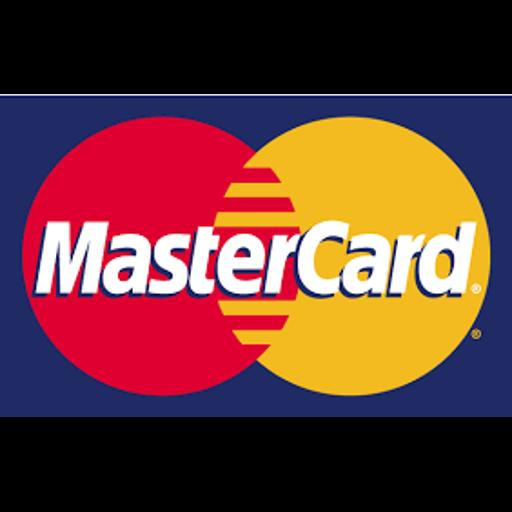Mastercard International: (0, 94, 512, 417)
